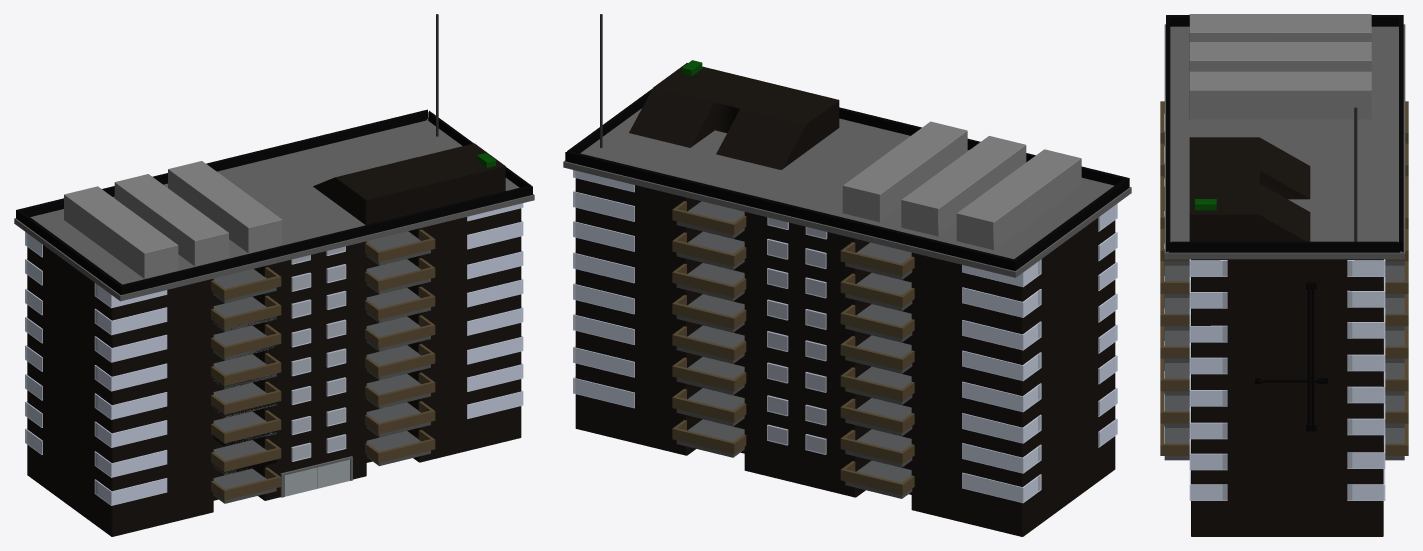
Rendered from AngleBuilding02.fbx.
The picture shows the model from 3 angles, left to right: view 1: azimuth 30°, elevation 25°; view 2: azimuth 150°, elevation 25°; view 3: azimuth 270°, elevation 25°; orthographic projection. The views are drawn at different scales.
Parts seen in each view (by area): view 1: AngleBuilding_02; view 2: AngleBuilding_02; view 3: AngleBuilding_02.
Part boxes in pixels (bbox=[...]): AngleBuilding_02: bbox=[14, 14, 534, 536]; AngleBuilding_02: bbox=[563, 14, 1131, 536]; AngleBuilding_02: bbox=[1160, 14, 1408, 536].
Size of the model in its own units: 1677 by 1435 by 762.
